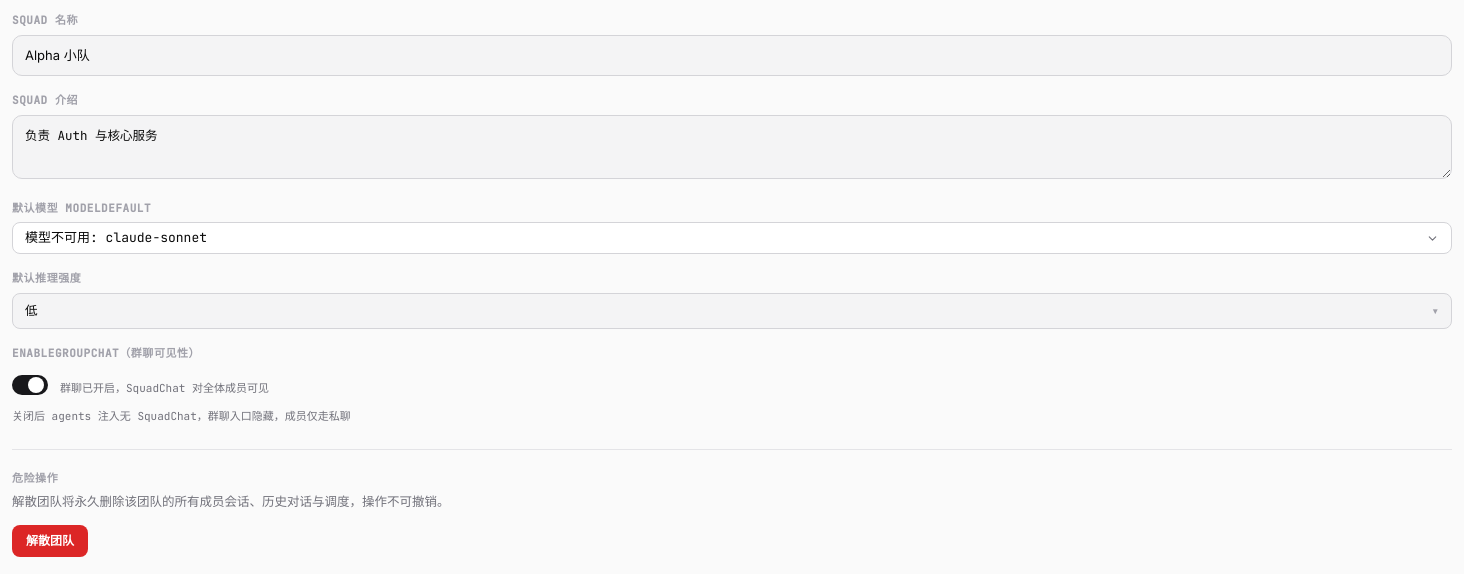
ManageTab effortDefault › 渲染 effortDefault 下拉（4 档 + 初始值 = detail.effortDefault）
This screenshot has width=1464, height=574.
Expected: the text "默认推理强度" is shown, [12,271,81,285]
Step 1. Click the button "低 ▾" → (31, 310), box [12,292,1452,329]
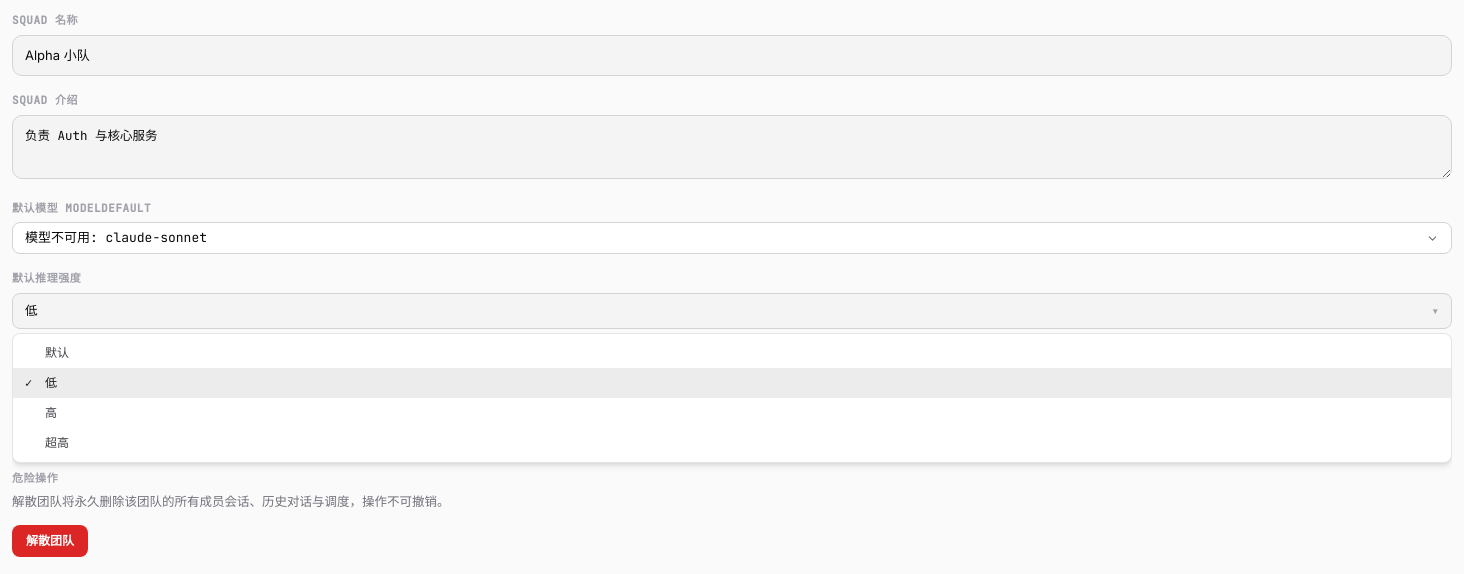
Expected: the option "默认" is shown, [13,338,1451,368]
Expected: the option "✓ 低" is shown, [13,368,1451,398]
Expected: the option "高" is shown, [13,398,1451,428]
